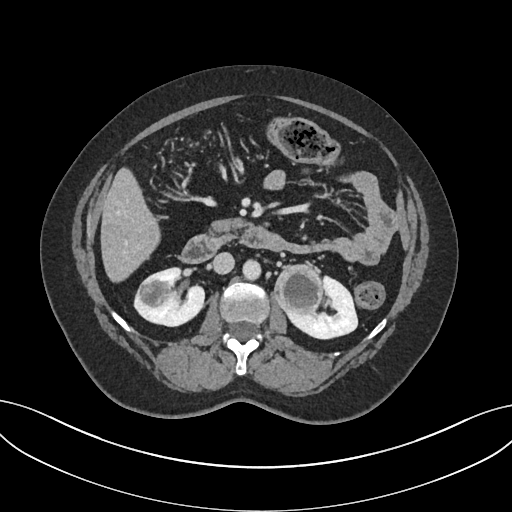Lesion: (136, 277, 174, 311)
